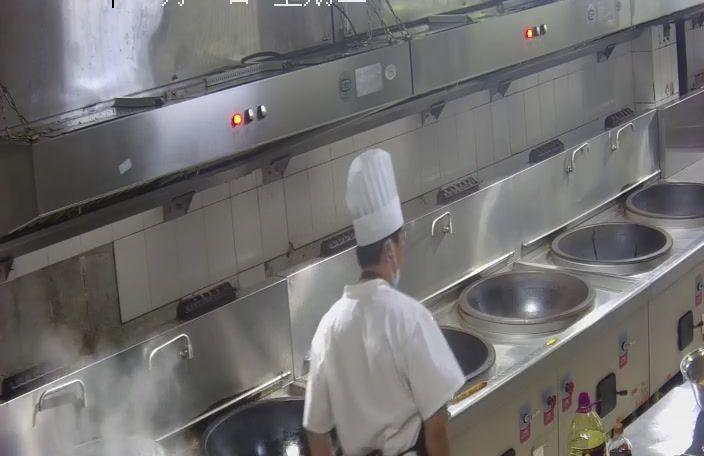mask: (355, 238, 408, 280)
